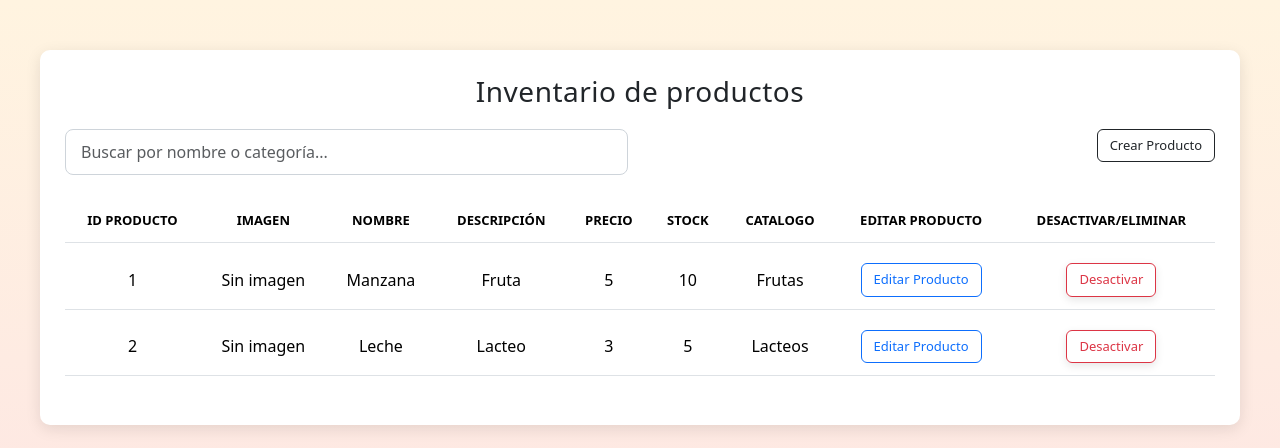
Test: muestra la tabla y filtra por texto
Expected: the text "Manzana" is shown, [327,251,435,310]
Step 1. Type "Leche" into the field with placeholder "Buscar por nombre o categoría..." → (346,152), box [65,129,628,175]
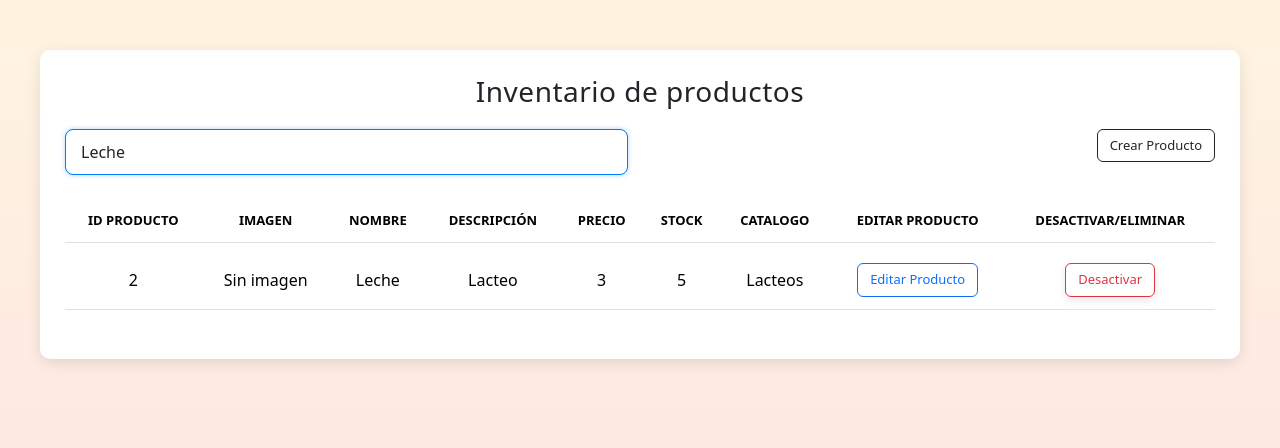
Expected: the text "Leche" is shown, [330,251,426,310]
Expected: the text "Manzana" is gone
